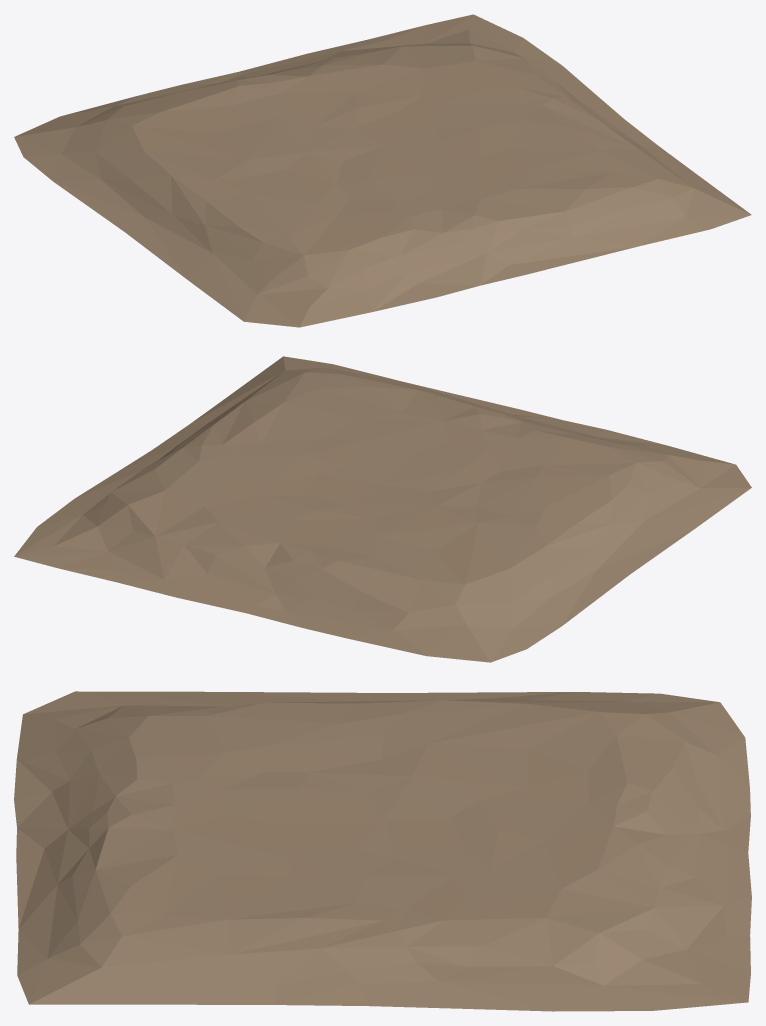
The model's file is SM_Env_Ground_Hill_Flat_Square_01.glb.
The picture shows the model from 3 angles, top to bottom: view 1: azimuth 30°, elevation 25°; view 2: azimuth 150°, elevation 25°; view 3: azimuth 270°, elevation 25°; orthographic projection. The views are drawn at different scales.
Parts seen in each view (by area): view 1: SM_Env_Ground_Hill_Flat_Square_01; view 2: SM_Env_Ground_Hill_Flat_Square_01; view 3: SM_Env_Ground_Hill_Flat_Square_01.
Part boxes in pixels (x1,y1,x2,y2): SM_Env_Ground_Hill_Flat_Square_01: (14,14,751,327); SM_Env_Ground_Hill_Flat_Square_01: (14,356,751,662); SM_Env_Ground_Hill_Flat_Square_01: (14,691,751,1011).
Bounding box in the file's own units: 18.13 × 1.06 × 17.67.
1 material, 1 textured.
